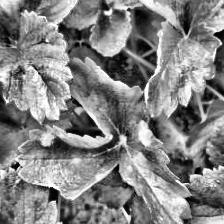Powdery Mildew Leaf: (0, 6, 74, 125), (16, 123, 124, 201), (66, 56, 154, 144), (144, 21, 223, 119), (119, 137, 192, 224), (0, 0, 79, 45)
